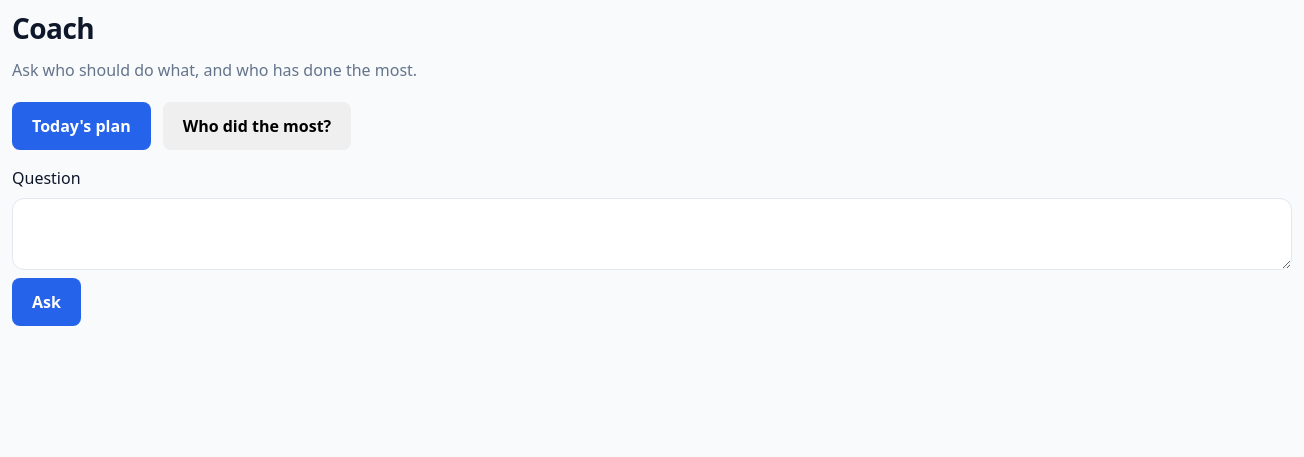
Test: CoachView › shows unavailable message when the API is down
The width and height of the screenshot is (1304, 457).
Step 1. Click the button "Today's plan" → click(81, 126), box [12,102,151,150]
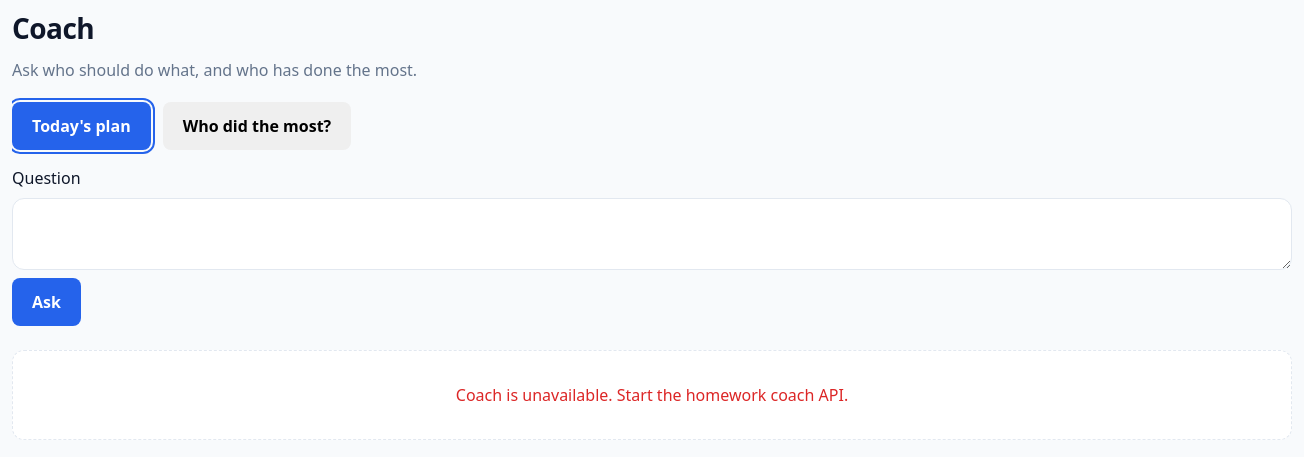
expect the text "Coach is unavailable. Start the homework coach API." is shown: met, box [12,350,1292,440]
